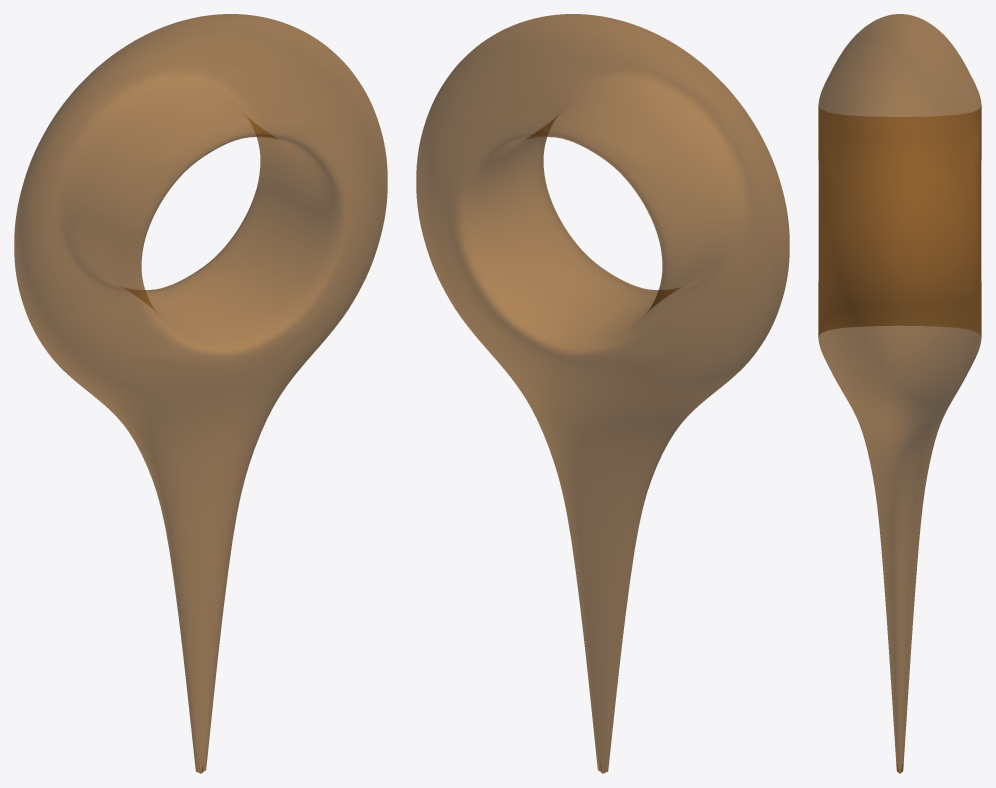
The model's file is GIS_Point.fbx.
3 views of the same model, side by side, from view 1: azimuth 30°, elevation 25°; view 2: azimuth 150°, elevation 25°; view 3: azimuth 270°, elevation 25° (orthographic).
Parts seen in each view (by area): view 1: pSphere3; view 2: pSphere3; view 3: pSphere3.
Part boxes in pixels (<box>): pSphere3: <box>14,14,387,773</box>; pSphere3: <box>416,14,789,773</box>; pSphere3: <box>818,14,981,773</box>.
Size of the model in its own units: 9.81 by 19.59 by 3.91.
